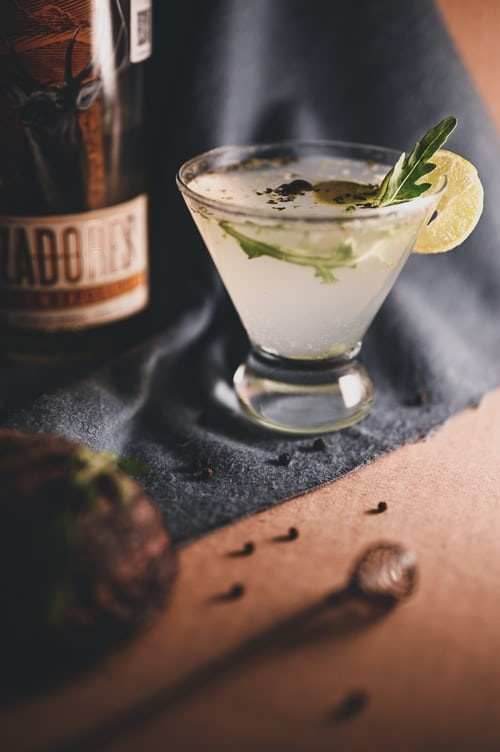whiskey: (167, 136, 440, 431)
